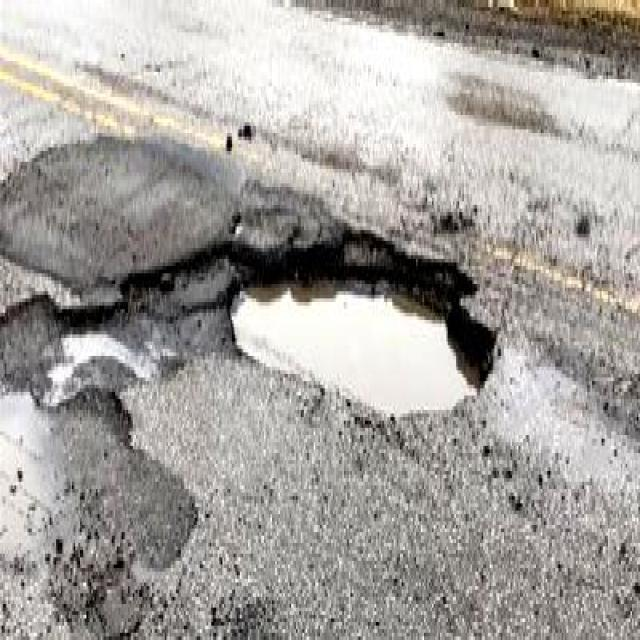pothole: (222, 216, 496, 417), (0, 280, 126, 409)
